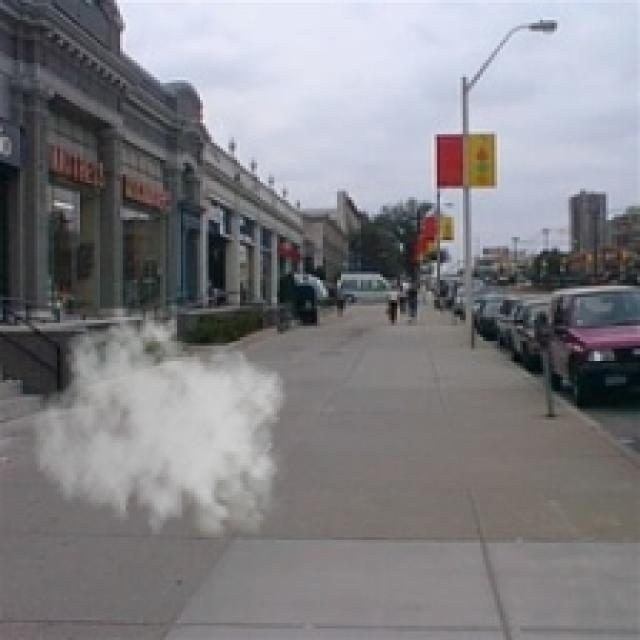smoke: (32, 308, 294, 552)
